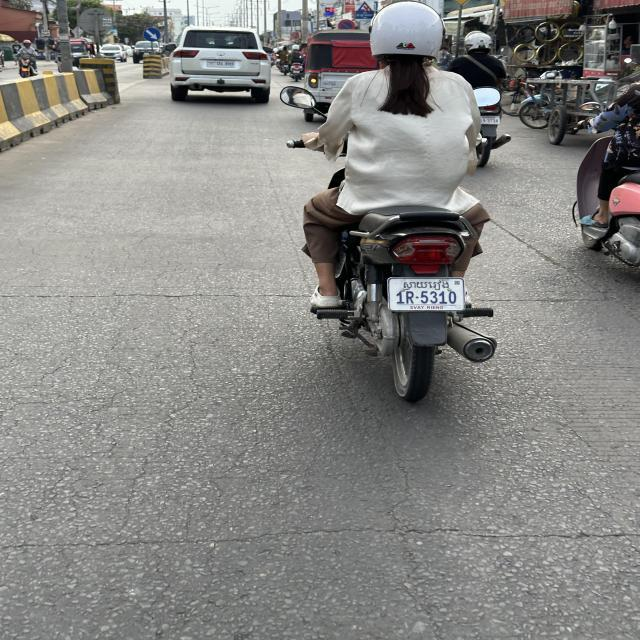Svay_Rieng: (403, 278, 452, 291)
